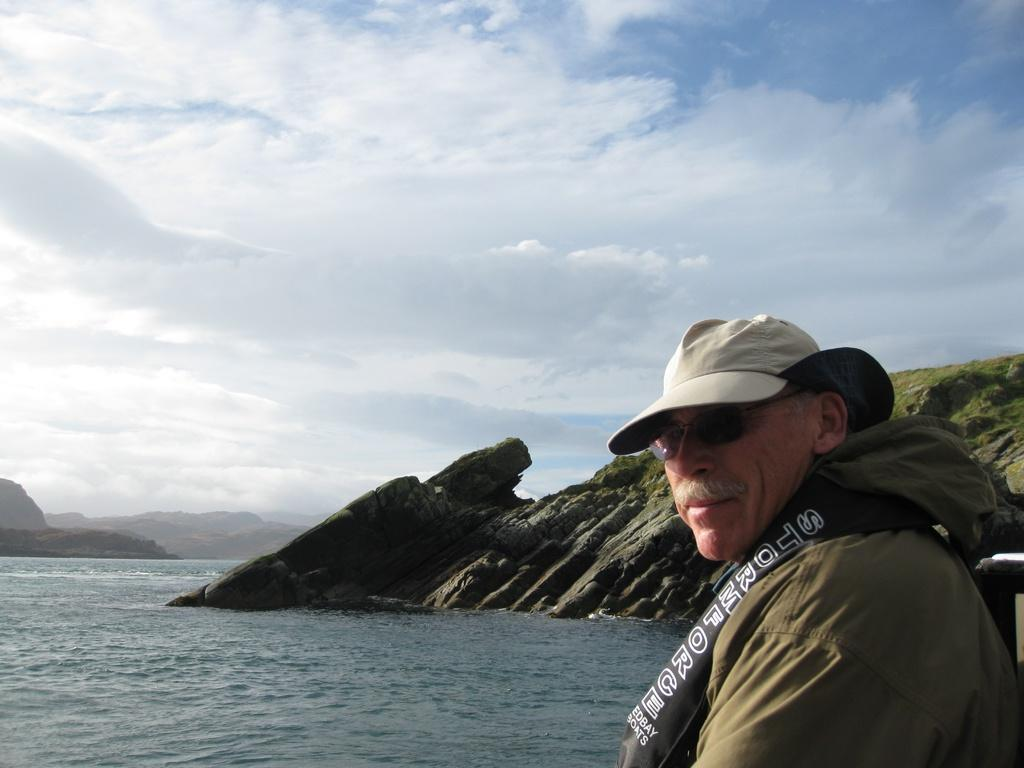Hat: (606, 308, 890, 455)
